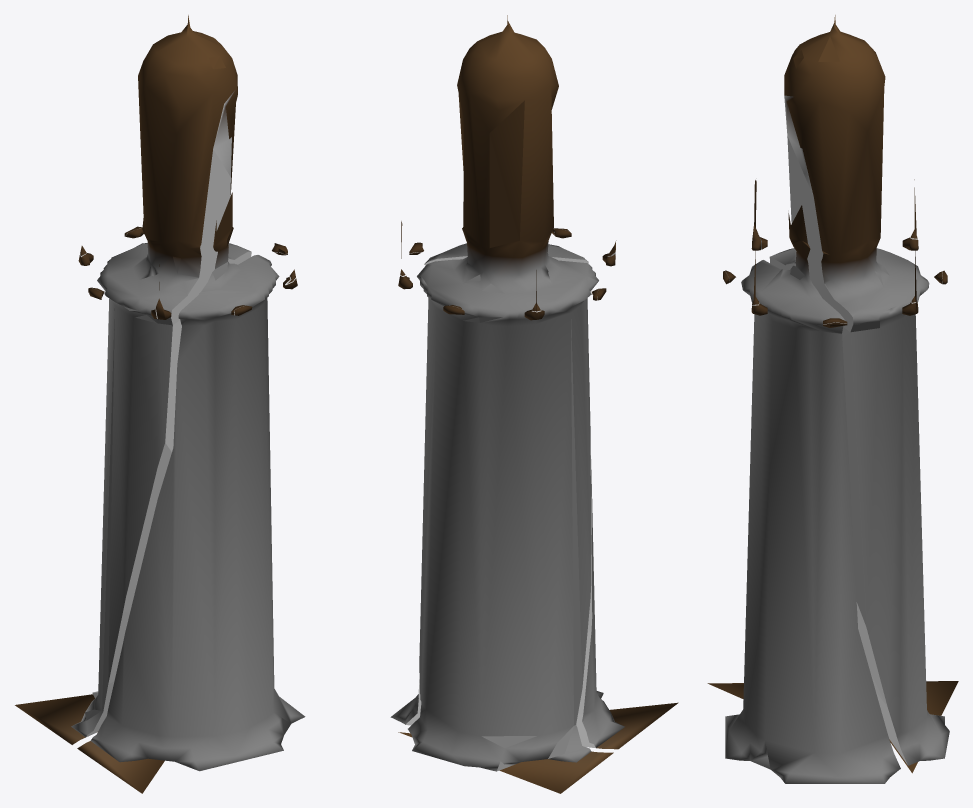
Rendered from Lighthouses(1).glb.
3 views of the same model, side by side, from view 1: azimuth 30°, elevation 25°; view 2: azimuth 150°, elevation 25°; view 3: azimuth 270°, elevation 25° (orthographic). The views are drawn at different scales.
Visible parts, largest first — view 1: Root.011, Root.010, Root.001; view 2: Root.010, Root.011, Root.001; view 3: Root.011, Root.010.
Boxes of the visible parts, bbox=[...] form: Root.011: bbox=[90, 192, 305, 771]; Root.010: bbox=[15, 15, 251, 744]; Root.001: bbox=[77, 741, 164, 793]; Root.010: bbox=[398, 15, 613, 793]; Root.011: bbox=[390, 243, 624, 747]; Root.001: bbox=[596, 702, 678, 749]; Root.011: bbox=[725, 205, 900, 783]; Root.010: bbox=[769, 15, 958, 773].
Bounding box in the file's own units: 2.45 × 7.31 × 2.31.
